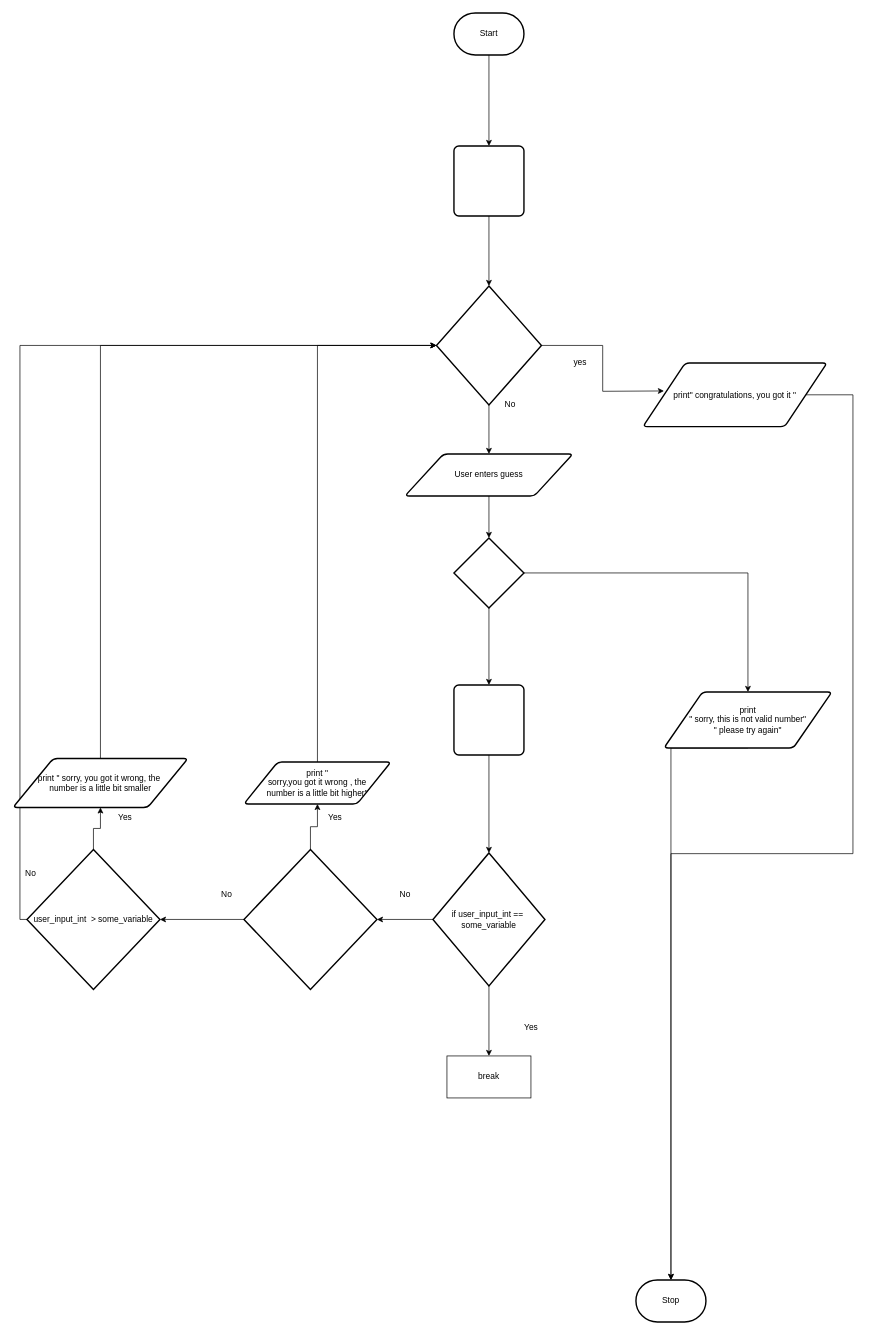
This 871x1334 diagram has some shape labels left out. The box of each missing label's shape, as (x1, y1, x2, y2) in pixels:
convert string to int: (453, 684, 524, 755)
some_variable = random.randint (1, 100): (453, 145, 524, 216)
try: (453, 537, 524, 608)
user_input_int < some_variable: (243, 848, 377, 990)
while True: (435, 285, 542, 405)
